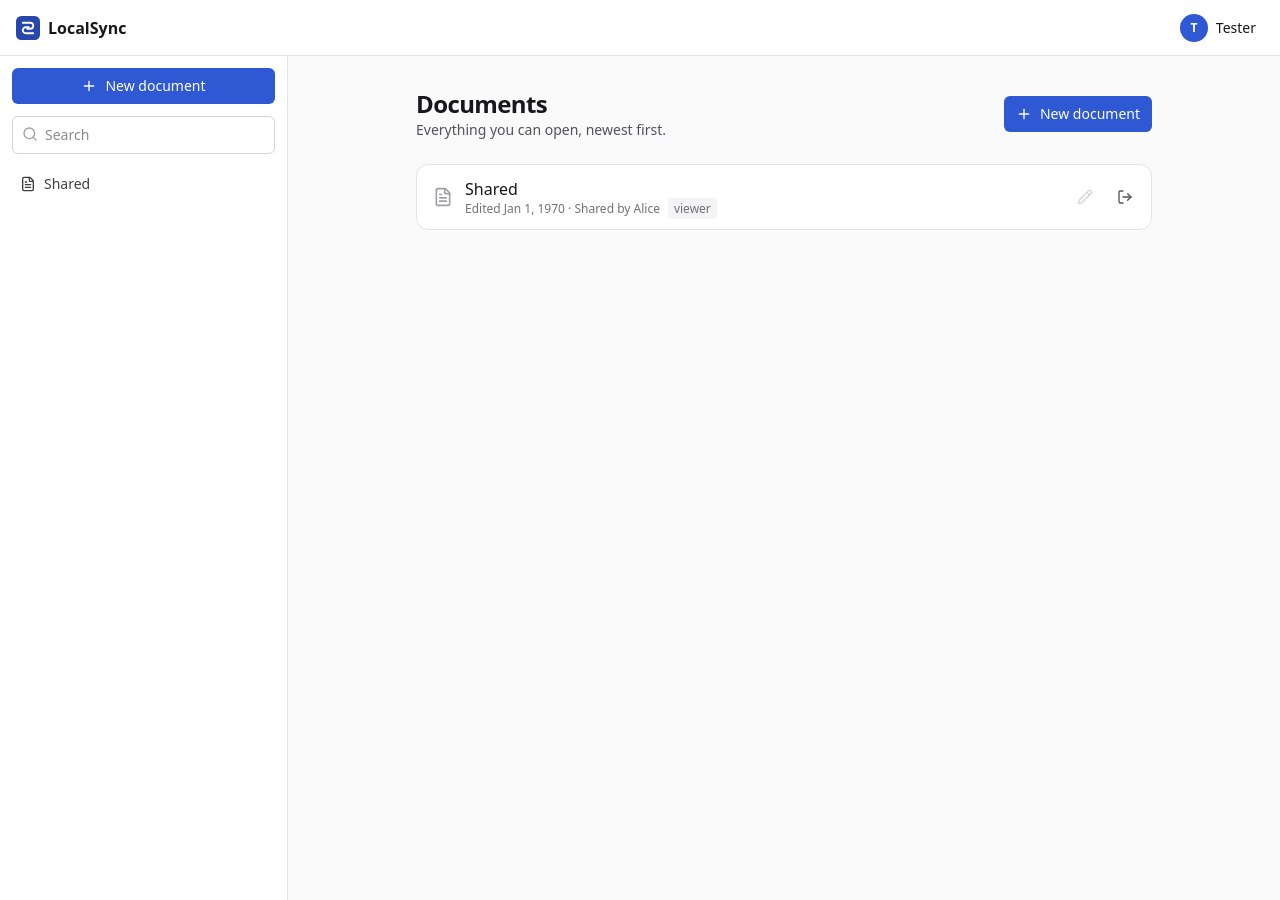
Test: dashboard › offers "Leave" (never "Delete") for a document shared with you, and viewers cannot rename
The width and height of the screenshot is (1280, 900).
Expected: the button named "Rename Shared" is disabled, [1067, 179, 1103, 215]
Expected: the text "· Shared by Alice" is shown, [565, 200, 660, 217]
Click the button named "Leave Shared" at (1125, 197), box [1107, 179, 1143, 215]
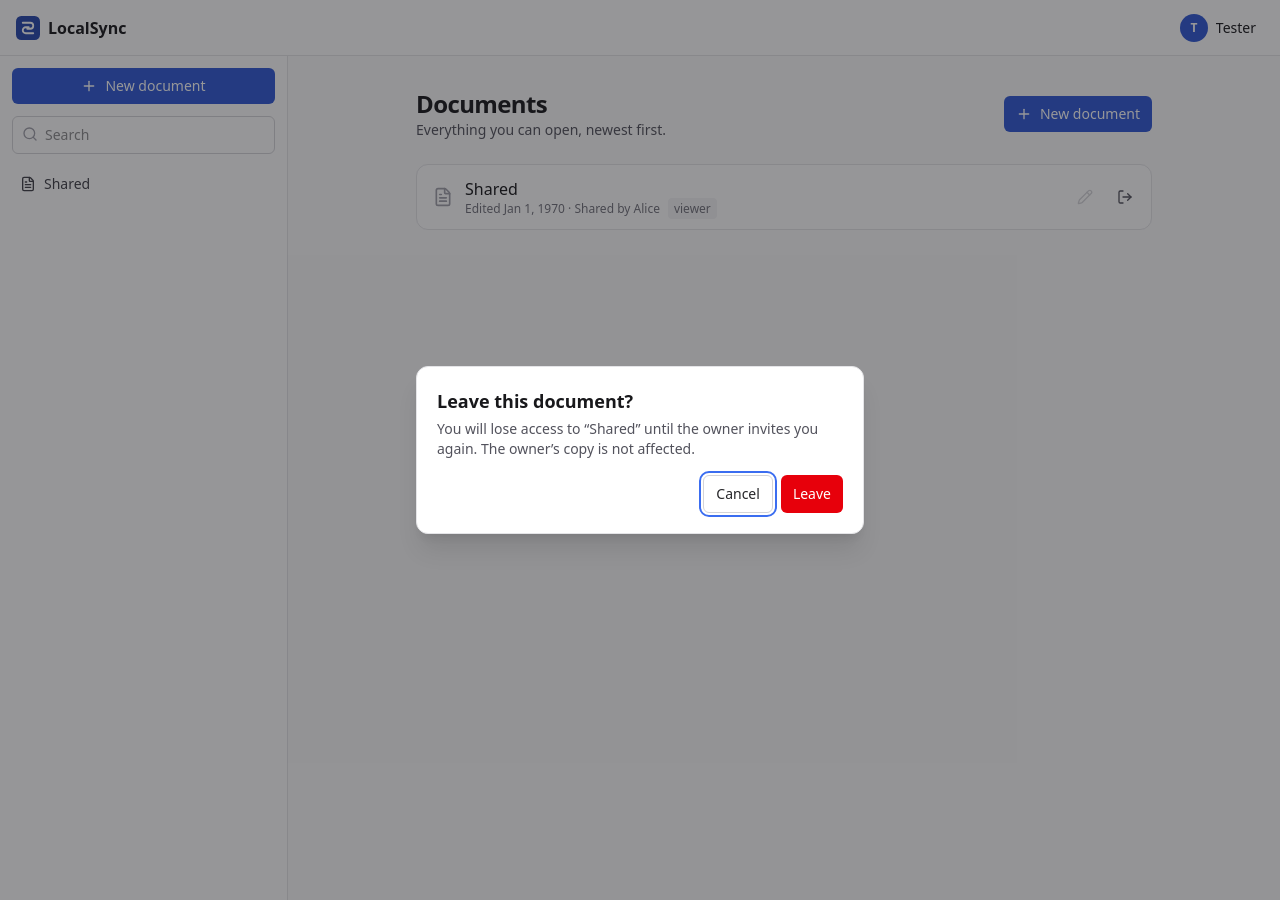
Expected: the text "owner.s copy is not affected" is shown, [437, 419, 818, 458]
Click the button "Leave" at (812, 494), box [781, 475, 843, 513]
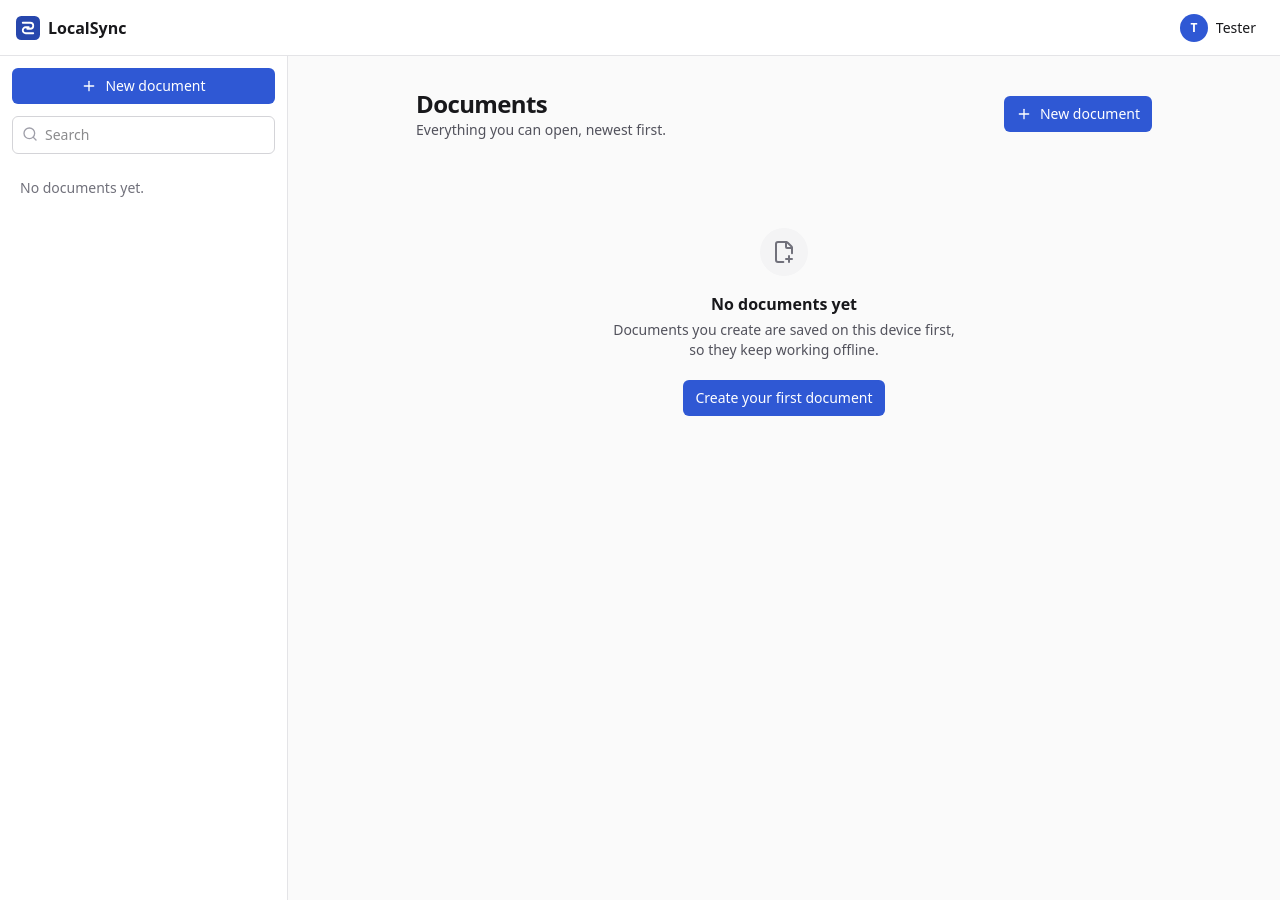
Expected: the heading "No documents yet" is shown, [711, 292, 857, 316]
